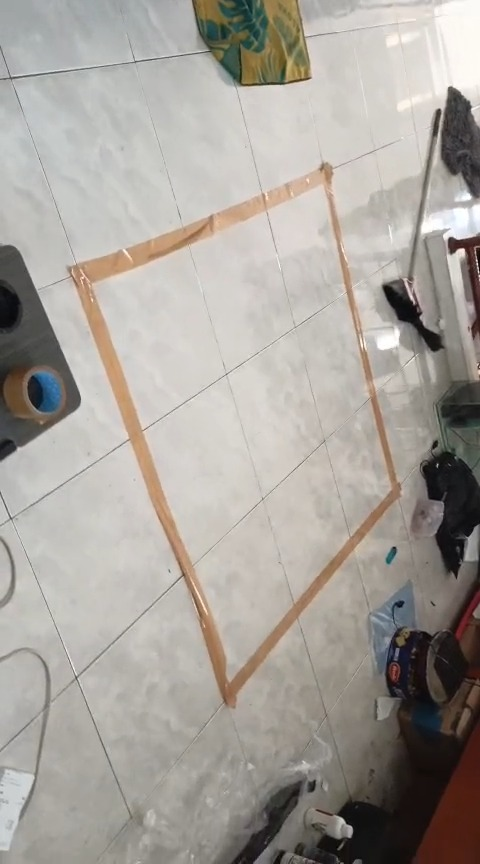floor marking: (71, 163, 400, 706)
